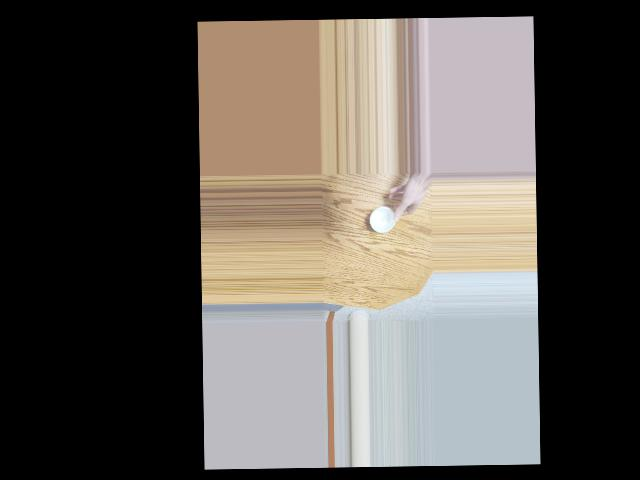cotage: (367, 203, 400, 236)
